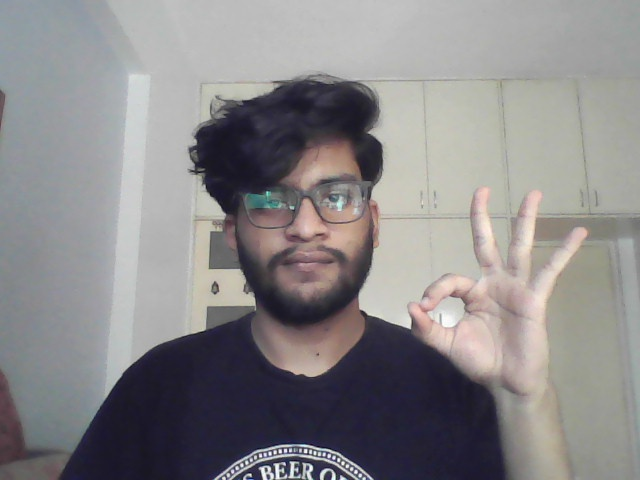Ok: (400, 182, 598, 398)
